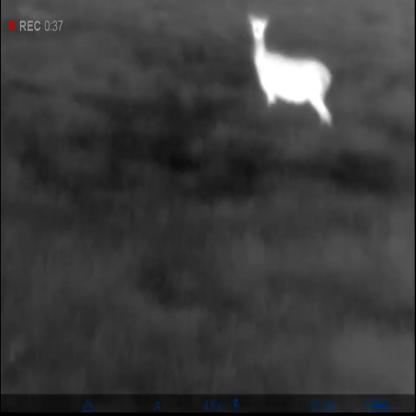rehkitze: (243, 17, 338, 128)
